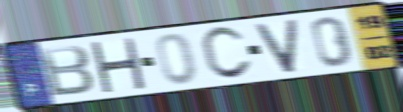0: (153, 30, 201, 86), (310, 14, 354, 70)
B: (36, 43, 97, 99)
C: (198, 24, 255, 82)
H: (87, 37, 148, 93)
V: (252, 17, 300, 75)
